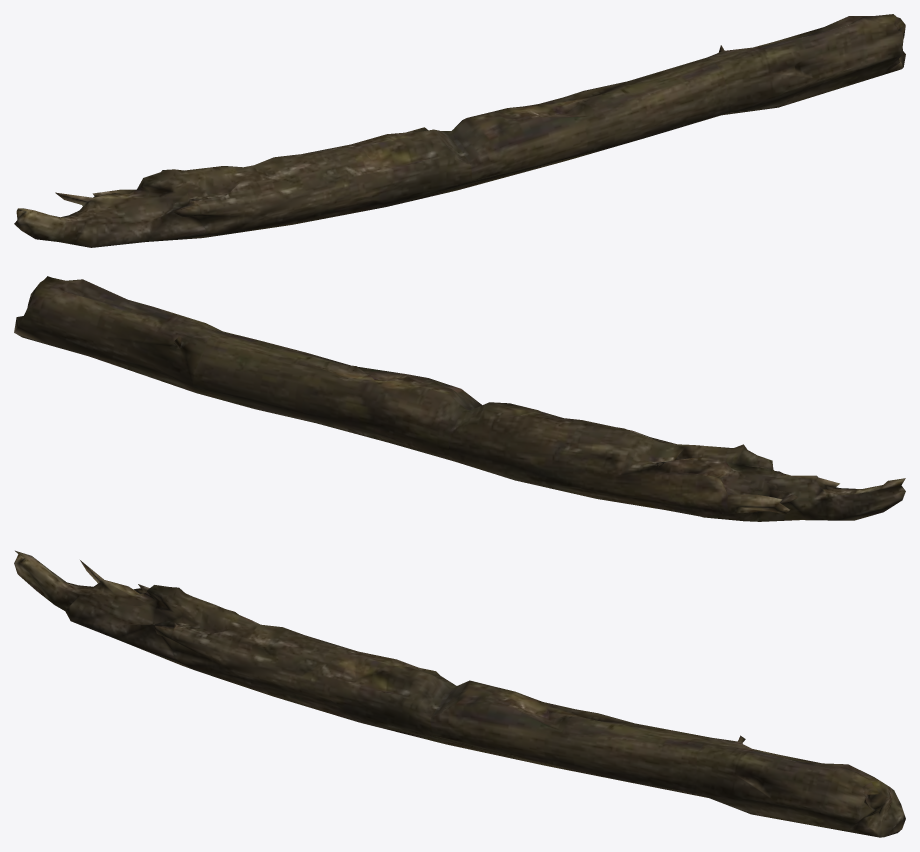
File: dead_tree_trunk_lod1.glb
The picture shows the model from 3 angles, top to bottom: view 1: azimuth 30°, elevation 25°; view 2: azimuth 150°, elevation 25°; view 3: azimuth 330°, elevation 25°; orthographic projection.
Visible parts, largest first — view 1: dead_tree_trunk; view 2: dead_tree_trunk; view 3: dead_tree_trunk.
Part boxes in pixels (<box>): dead_tree_trunk: <box>14,14,905,247</box>; dead_tree_trunk: <box>14,276,905,521</box>; dead_tree_trunk: <box>14,550,905,837</box>.
Size of the model in its own units: 3.04 by 0.2847 by 0.2717.
1 material, 1 textured.
